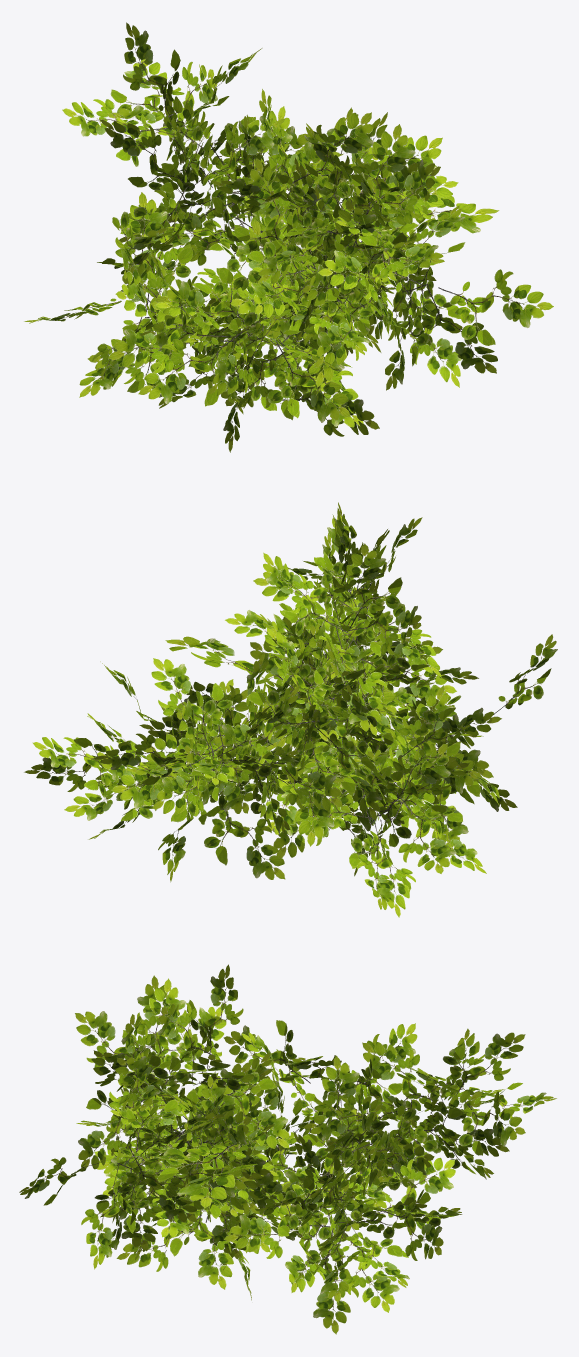
The model's file is tree crown Rough.fbx.
3 views of the same model, one above another, from view 1: azimuth 30°, elevation 25°; view 2: azimuth 150°, elevation 25°; view 3: azimuth 270°, elevation 25° (orthographic). The views are drawn at different scales.
Parts seen in each view (by area): view 1: Branch; view 2: Branch; view 3: Branch.
Part boxes in pixels (x1,y1,x2,y2): Branch: (24, 22, 553, 452); Branch: (24, 502, 557, 917); Branch: (19, 964, 556, 1334).
Size of the model in its own units: 711 by 598 by 919.
Materials: 1 (1 with a texture image).
